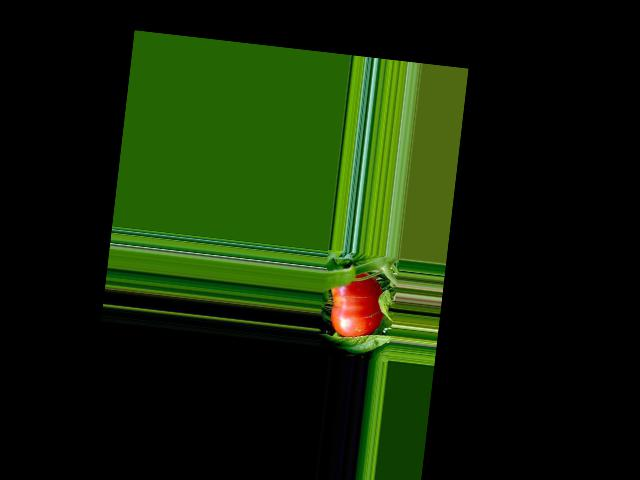tomato: (325, 268, 387, 341)
